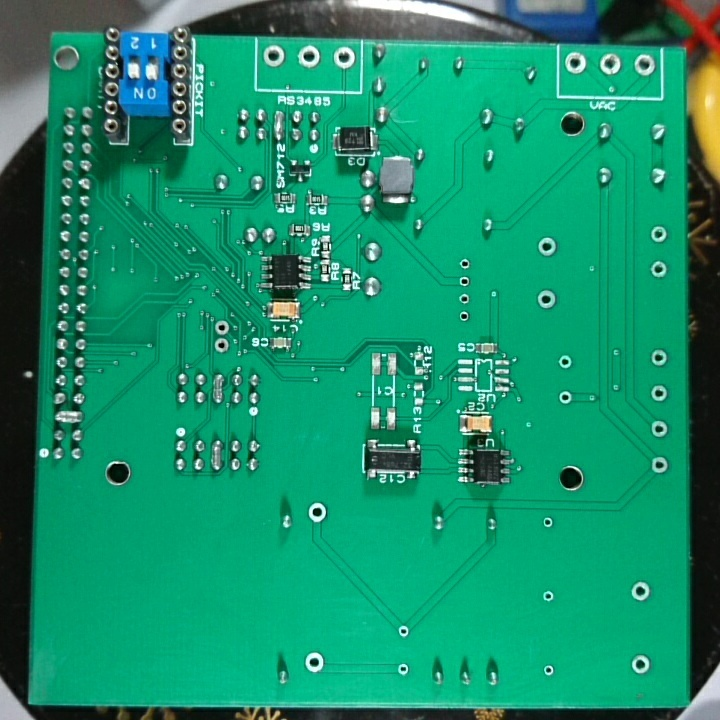F: (597, 50, 625, 80), (632, 52, 656, 83), (563, 50, 590, 77), (296, 44, 322, 72), (261, 43, 287, 69), (535, 287, 560, 313), (626, 652, 654, 675), (536, 234, 558, 263), (648, 381, 672, 407), (648, 416, 670, 444), (630, 579, 653, 605), (306, 500, 328, 527), (647, 347, 670, 372), (650, 452, 672, 478), (648, 256, 669, 283), (333, 46, 356, 70), (303, 651, 327, 673), (648, 223, 670, 246), (213, 316, 234, 336), (213, 335, 232, 356), (557, 352, 575, 373), (456, 289, 474, 308), (456, 306, 473, 326), (396, 621, 413, 640), (557, 387, 573, 406), (456, 256, 473, 273), (456, 272, 473, 289), (396, 660, 412, 678), (541, 587, 556, 606), (541, 514, 556, 533), (541, 661, 555, 678)
P: (210, 369, 226, 409), (53, 409, 85, 427), (272, 108, 287, 144), (210, 438, 221, 474)
